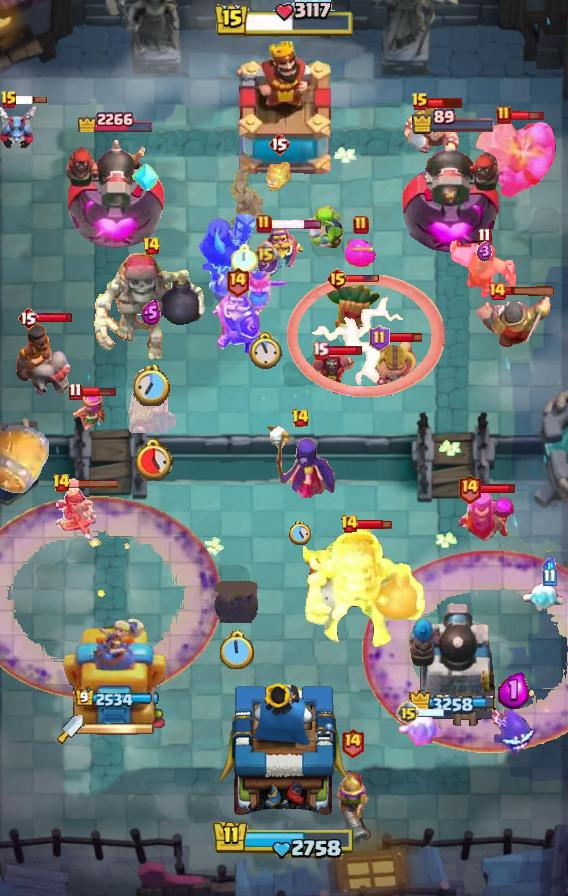archer: (61, 391, 107, 435)
bar: (270, 219, 323, 230), (68, 478, 120, 489), (505, 286, 557, 297), (427, 96, 464, 109), (388, 331, 423, 344), (510, 109, 545, 122), (357, 518, 392, 530), (480, 483, 517, 494), (327, 345, 364, 356), (37, 312, 74, 323), (81, 386, 117, 397), (418, 707, 453, 718), (12, 95, 48, 105), (346, 274, 380, 284)
bar-level: (340, 727, 365, 758), (457, 473, 482, 504), (225, 266, 250, 297), (396, 701, 420, 725), (326, 267, 349, 291), (369, 325, 390, 351), (254, 241, 277, 264), (17, 306, 39, 330), (268, 132, 290, 156), (487, 281, 507, 301), (340, 514, 359, 534), (52, 473, 71, 493), (291, 408, 310, 428), (142, 236, 161, 256), (411, 92, 429, 112), (0, 90, 18, 110), (312, 341, 329, 360), (353, 215, 369, 235), (256, 214, 272, 234), (496, 105, 512, 125), (542, 568, 557, 587), (68, 382, 83, 401), (477, 227, 492, 246)
bomb: (214, 581, 258, 623)
cannoneer-tower: (61, 132, 168, 256), (401, 138, 505, 256), (408, 599, 498, 731)
clock: (132, 437, 174, 481), (133, 365, 170, 406), (218, 630, 254, 672), (249, 332, 282, 370), (231, 244, 258, 274), (289, 521, 311, 545)
dagger-duchess-tower: (62, 615, 167, 731)
dagger-duchess-tower-bar: (83, 722, 155, 736)
dart-goblin: (322, 281, 382, 357)
dirt: (225, 172, 263, 225)
electro-spirit: (492, 710, 534, 756)
elite-barbarian: (403, 104, 459, 158), (373, 341, 417, 399)
elixir: (498, 672, 529, 709), (141, 300, 161, 325), (477, 241, 492, 262), (543, 558, 556, 576)
elixir-golem-small: (345, 237, 377, 267)
firecracker-evolution: (125, 371, 181, 433)
goblin: (305, 201, 345, 251)
ice-spirit: (522, 580, 568, 616)
ice-spirit-evolution: (396, 712, 446, 750)
ice-spirit-evolution-symbol: (132, 160, 160, 194)
king-tower: (220, 678, 349, 826), (228, 41, 340, 181)
king-tower-bar: (212, 819, 356, 861), (213, 0, 355, 40)
knight: (474, 293, 552, 347)
knight-evolution: (213, 286, 262, 354), (254, 224, 303, 278)
lava-pup: (263, 157, 295, 193)
lumberjack: (449, 236, 519, 298)
minion: (0, 104, 42, 148)
mother-witch: (456, 489, 516, 541)
musketeer: (331, 760, 373, 848)
princess: (53, 487, 97, 547)
ram-rider: (14, 321, 72, 397)
tower-bar: (409, 690, 498, 717), (411, 108, 496, 135), (75, 106, 153, 132), (75, 689, 153, 709)
valkyrie: (241, 269, 289, 323)
witch: (262, 421, 338, 501)
wizard: (309, 347, 355, 397)
